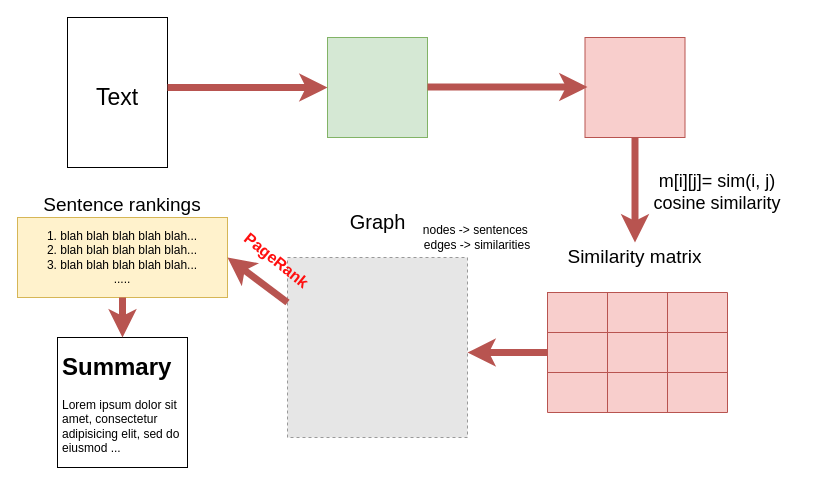
This 835x485 diagram has some shape labels left out. Grey dashed boxes stand in for pictures. The shapes that lost their labels are listed below. From the top down, each one's centre as x and y in pixels, then its label:
At [377,87]: "Sentences".
At [634,87]: "Vectors".
